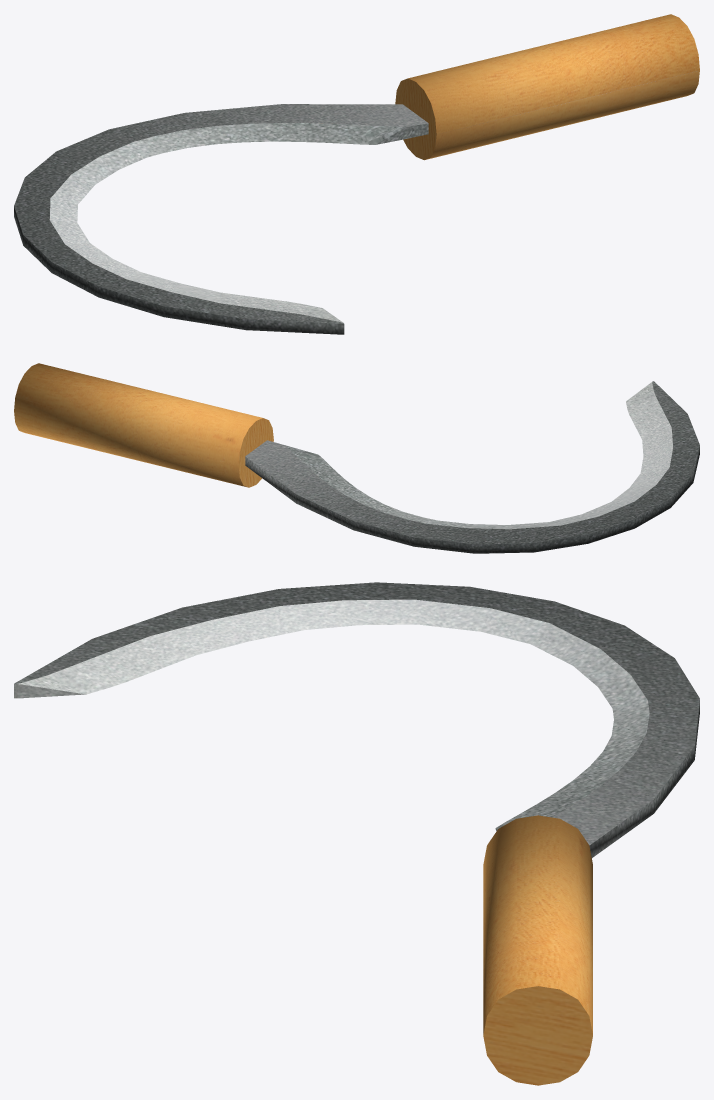
The model's file is kama-small.fbx.
The picture shows the model from 3 angles, top to bottom: view 1: azimuth 30°, elevation 25°; view 2: azimuth 150°, elevation 25°; view 3: azimuth 270°, elevation 25°; orthographic projection. The views are drawn at different scales.
Parts seen in each view (by area): view 1: BezierCurve; view 2: BezierCurve; view 3: BezierCurve.
Part boxes in pixels (left/top/right/bottom): BezierCurve: left=14, top=14, right=699, bottom=334; BezierCurve: left=14, top=363, right=699, bottom=553; BezierCurve: left=14, top=582, right=699, bottom=1085.
Size of the model in its own units: 264 by 27.5 by 172.
Materials: 1 (1 with a texture image).
